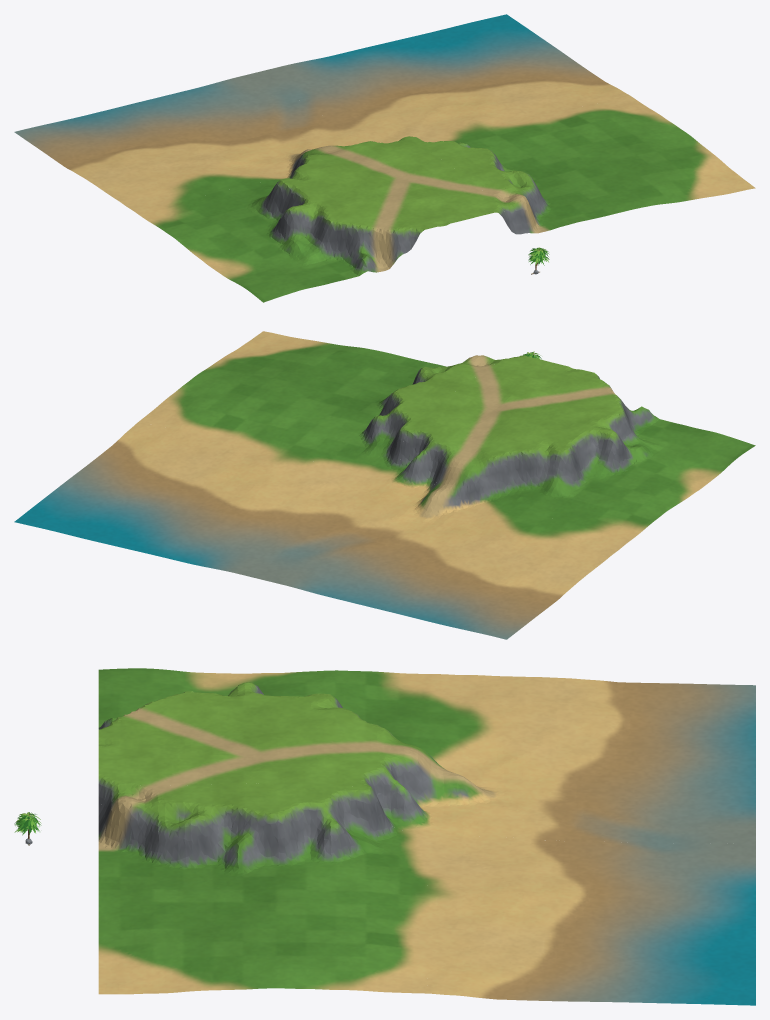
The model's file is island.glb.
3 views of the same model, one above another, from view 1: azimuth 30°, elevation 25°; view 2: azimuth 150°, elevation 25°; view 3: azimuth 270°, elevation 25° (orthographic). The views are drawn at different scales.
Visible parts, largest first — view 1: terrain_0_1, terrain_1_0, terrain_0_0, terrain_1_1; view 2: terrain_0_1, terrain_0_0, terrain_1_0, terrain_1_1; view 3: terrain_1_1, terrain_1_0, terrain_0_0, terrain_0_1.
Boxes of the visible parts, x1,y1,x2,y2 form: terrain_0_1: (139,137,509,302); terrain_1_0: (261,14,630,143); terrain_0_0: (14,71,363,214); terrain_1_1: (407,96,755,234); terrain_0_1: (385,355,755,539); terrain_0_0: (260,475,630,639); terrain_1_0: (14,422,384,578); terrain_1_1: (139,331,501,479); terrain_1_1: (98,783,428,994); terrain_1_0: (426,832,755,1005); terrain_0_0: (426,674,755,843); terrain_0_1: (98,668,428,832).
Bounding box in the file's own units: 222 × 20.79 × 219.
